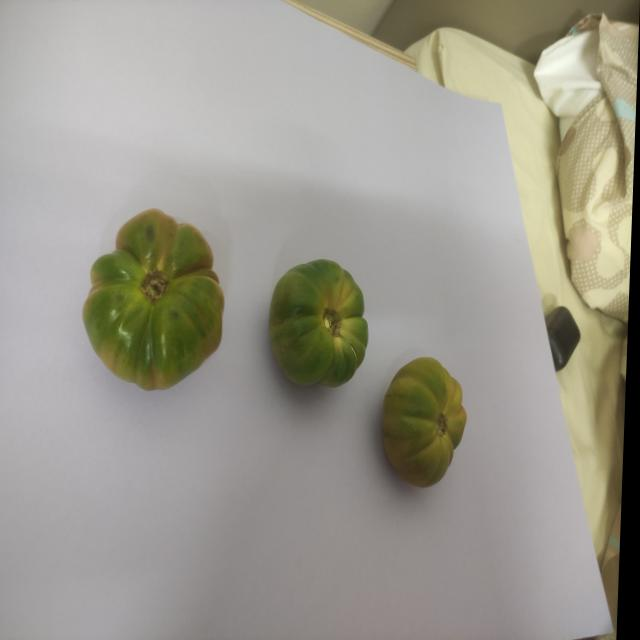yesil: (70, 192, 240, 387), (254, 247, 378, 420), (382, 339, 476, 494)
